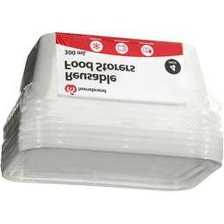plastic_box: (0, 26, 223, 199)
